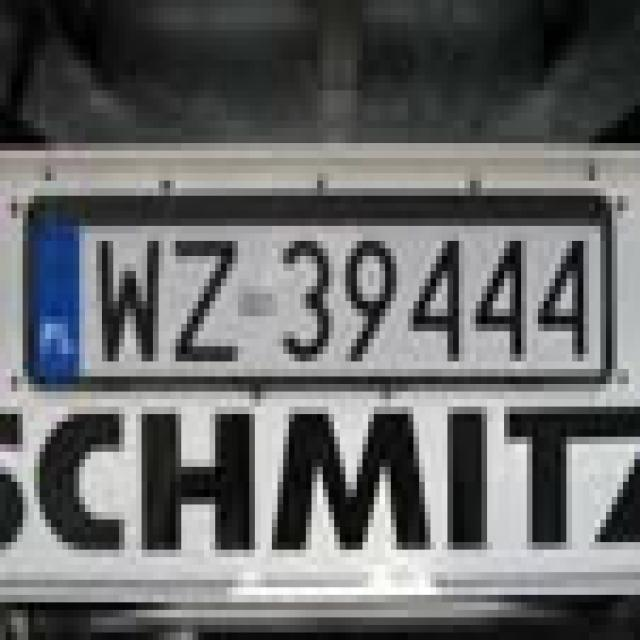pl_license_plate: (28, 211, 595, 369)
